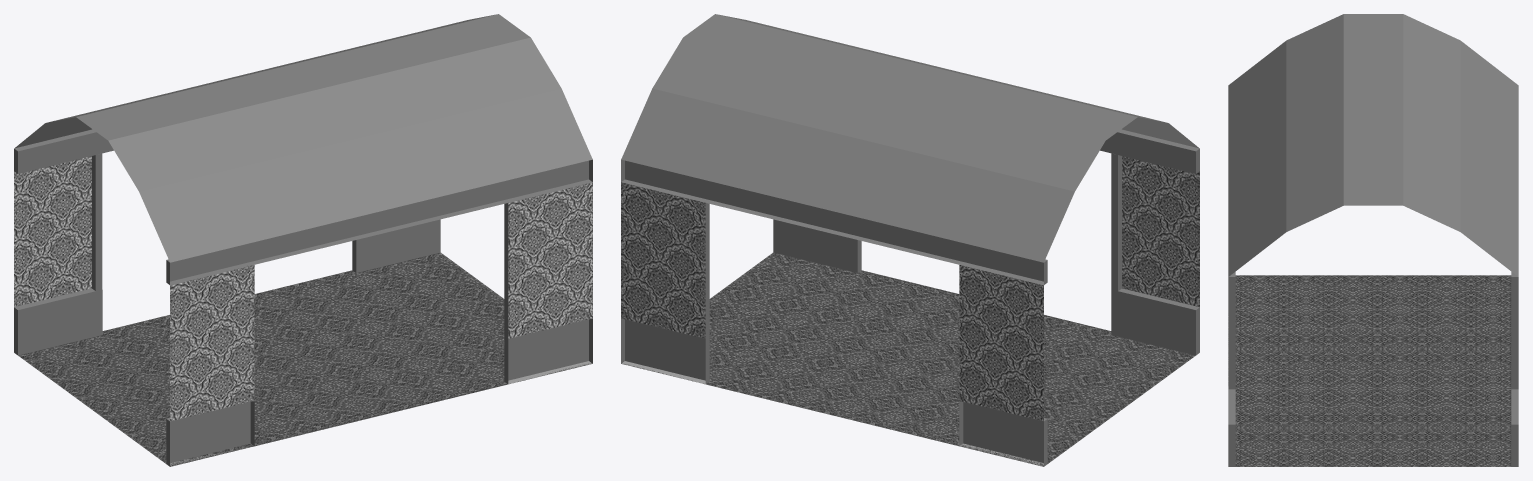
File: Hallway_Gap.fbx
3 views of the same model, side by side, from view 1: azimuth 30°, elevation 25°; view 2: azimuth 150°, elevation 25°; view 3: azimuth 270°, elevation 25° (orthographic). The views are drawn at different scales.
Visible parts, largest first — view 1: Hallway_Gap; view 2: Hallway_Gap; view 3: Hallway_Gap.
Boxes of the visible parts, <box> form: Hallway_Gap: <box>14,14,592,466</box>; Hallway_Gap: <box>621,14,1199,466</box>; Hallway_Gap: <box>1228,14,1518,466</box>.
Bounding box in the file's own units: 9.38 × 5.96 × 6.
4 materials, 2 textured.
